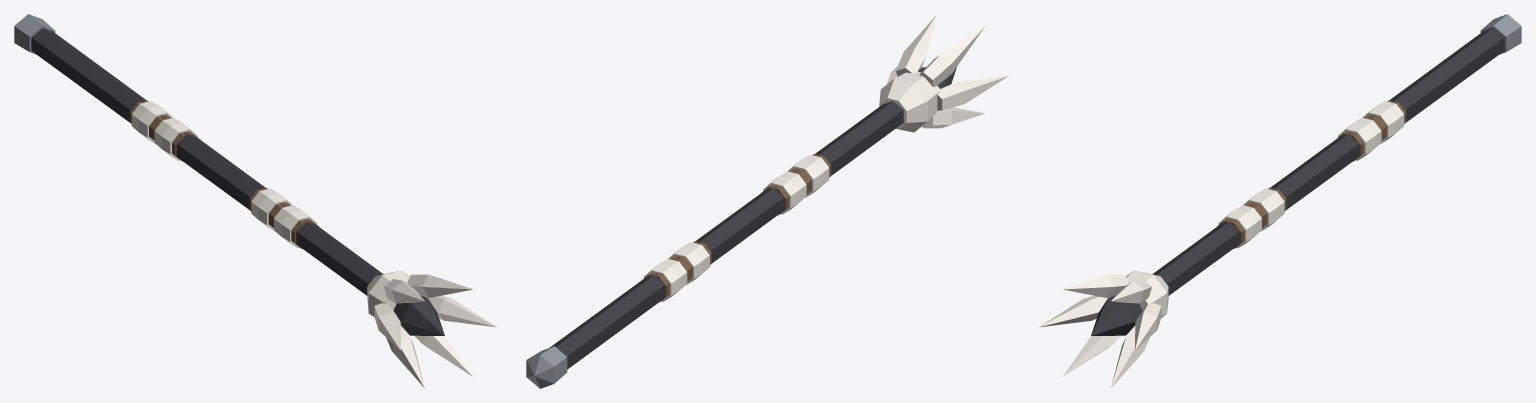
The model's file is ossuarystaff.glb.
The picture shows the model from 3 angles, left to right: view 1: azimuth 30°, elevation 25°; view 2: azimuth 150°, elevation 25°; view 3: azimuth 330°, elevation 25°; orthographic projection.
Visible parts, largest first — view 1: ossuarystaff; view 2: ossuarystaff; view 3: ossuarystaff.
Part boxes in pixels (bbox=[...]): ossuarystaff: bbox=[14, 14, 496, 388]; ossuarystaff: bbox=[526, 14, 1008, 388]; ossuarystaff: bbox=[1039, 14, 1521, 388].
Bounding box in the file's own units: 0.1963 × 0.17 × 1.5.
